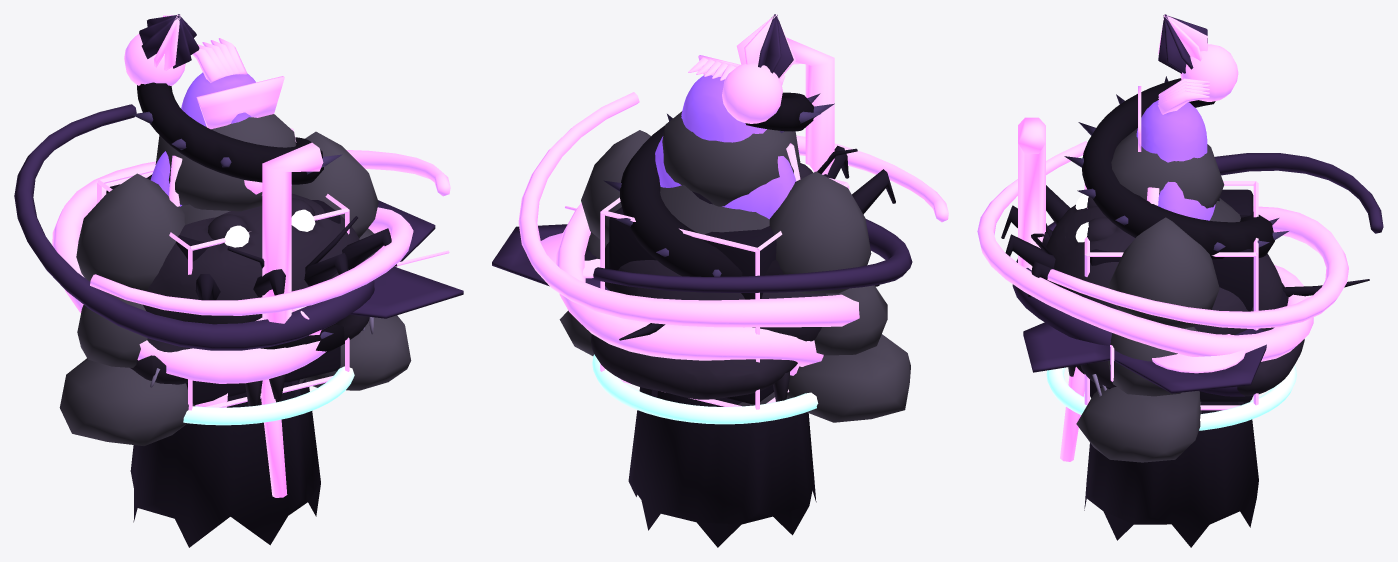
Rendered from beasts_w234.glb.
3 renders of one model, left to right at view 1: azimuth 30°, elevation 25°; view 2: azimuth 150°, elevation 25°; view 3: azimuth 270°, elevation 25°, orthographic. The views are drawn at different scales.
Parts seen in each view (by area): view 1: quarry_golem, gale, seam_wraith, bog, vine_choker, twist_thief, echo, cube_sentry, moth_wing, fiber_wraith, moth; view 2: quarry_golem, gale, seam_wraith, vine_choker, bog, echo, cube_sentry, twist_thief, fiber_wraith, moth_wing; view 3: gale, quarry_golem, seam_wraith, vine_choker, bog, moth_wing, echo, twist_thief, cube_sentry, fiber_wraith.
Part boxes in pixels (<box>): quarry_golem: <box>59,114,411,445</box>; gale: <box>14,104,450,407</box>; seam_wraith: <box>130,317,373,547</box>; bog: <box>130,193,369,406</box>; vine_choker: <box>124,14,344,354</box>; twist_thief: <box>195,142,396,335</box>; echo: <box>150,38,296,206</box>; cube_sentry: <box>97,166,349,410</box>; moth_wing: <box>350,200,463,318</box>; fiber_wraith: <box>183,366,354,425</box>; moth: <box>227,216,357,271</box>; quarry_golem: <box>559,111,910,422</box>; gale: <box>518,92,948,366</box>; seam_wraith: <box>628,191,816,547</box>; vine_choker: <box>603,14,834,276</box>; bog: <box>591,162,825,401</box>; echo: <box>655,55,800,219</box>; cube_sentry: <box>600,178,849,409</box>; twist_thief: <box>786,37,895,286</box>; fiber_wraith: <box>592,354,818,424</box>; moth_wing: <box>492,206,608,290</box>; gale: <box>977,141,1383,396</box>; quarry_golem: <box>1076,128,1240,462</box>; seam_wraith: <box>1060,198,1258,547</box>; vine_choker: <box>1064,14,1288,374</box>; bog: <box>1046,194,1304,396</box>; moth_wing: <box>1023,322,1266,393</box>; echo: <box>1136,78,1215,220</box>; twist_thief: <box>1001,117,1288,308</box>; cube_sentry: <box>1084,181,1258,410</box>; fiber_wraith: <box>1046,365,1296,430</box>.
Bounding box in the file's own units: 1.45 × 1.8 × 1.39.
